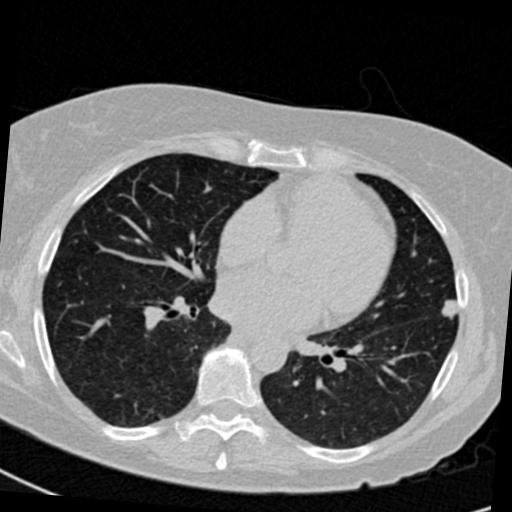nodule: (439, 296, 463, 320)
